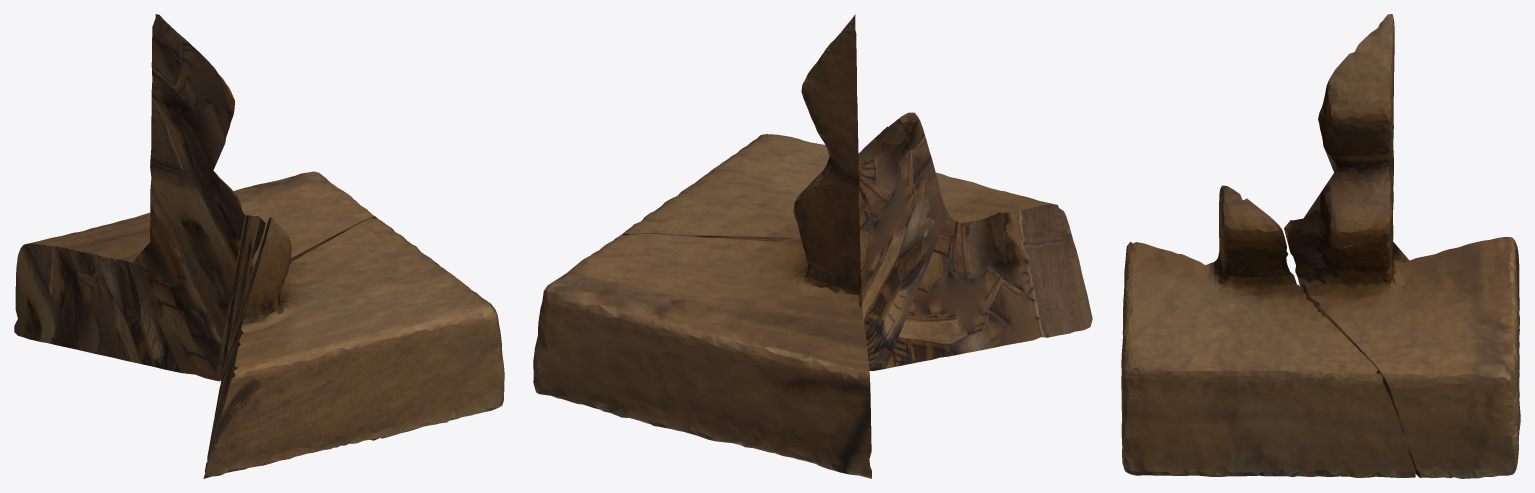
The picture shows the model from 3 angles, left to right: view 1: azimuth 30°, elevation 25°; view 2: azimuth 150°, elevation 25°; view 3: azimuth 270°, elevation 25°; orthographic projection. The views are drawn at different scales.
Parts seen in each view (by area): view 1: KLA-Or-10000_cell.006; view 2: KLA-Or-10000_cell.006; view 3: KLA-Or-10000_cell.006.
Part boxes in pixels (<box>): KLA-Or-10000_cell.006: <box>14,14,504,478</box>; KLA-Or-10000_cell.006: <box>533,14,1092,478</box>; KLA-Or-10000_cell.006: <box>1121,14,1520,478</box>.
Bounding box in the file's own units: 39.5 × 43.12 × 43.62.
